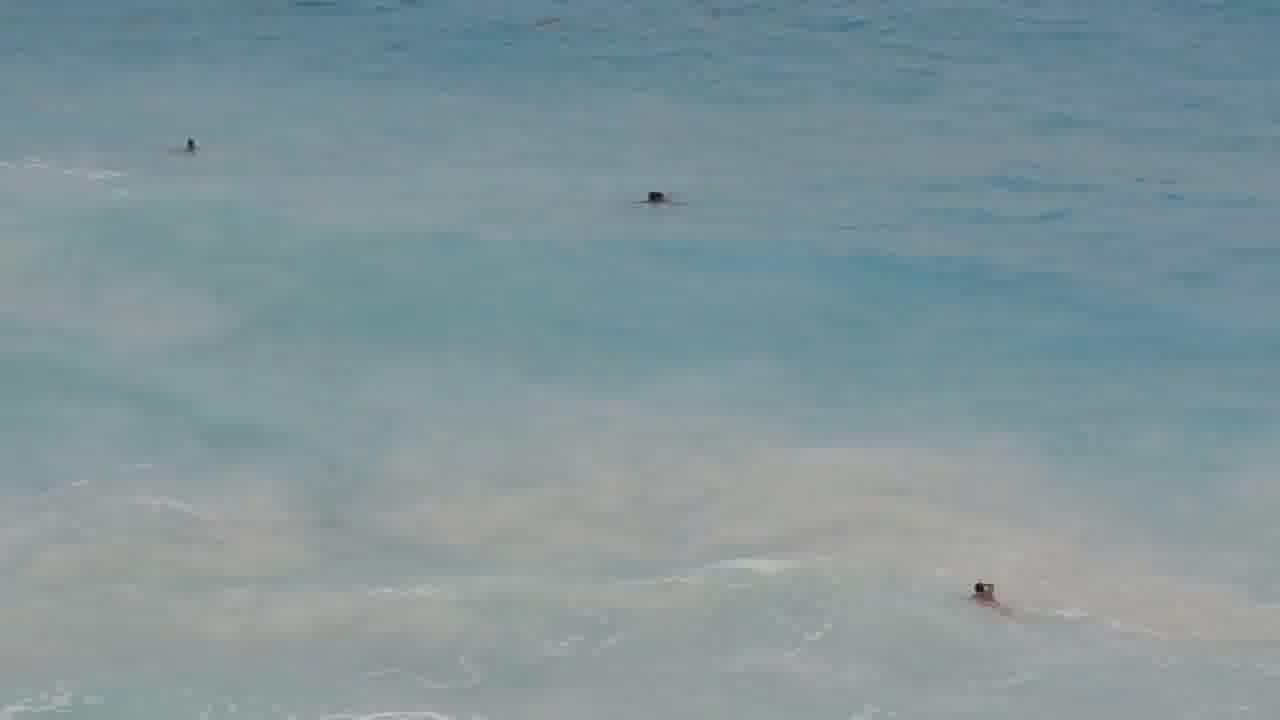swimmer: (954, 566, 1021, 609), (631, 177, 683, 213), (175, 120, 215, 165)
